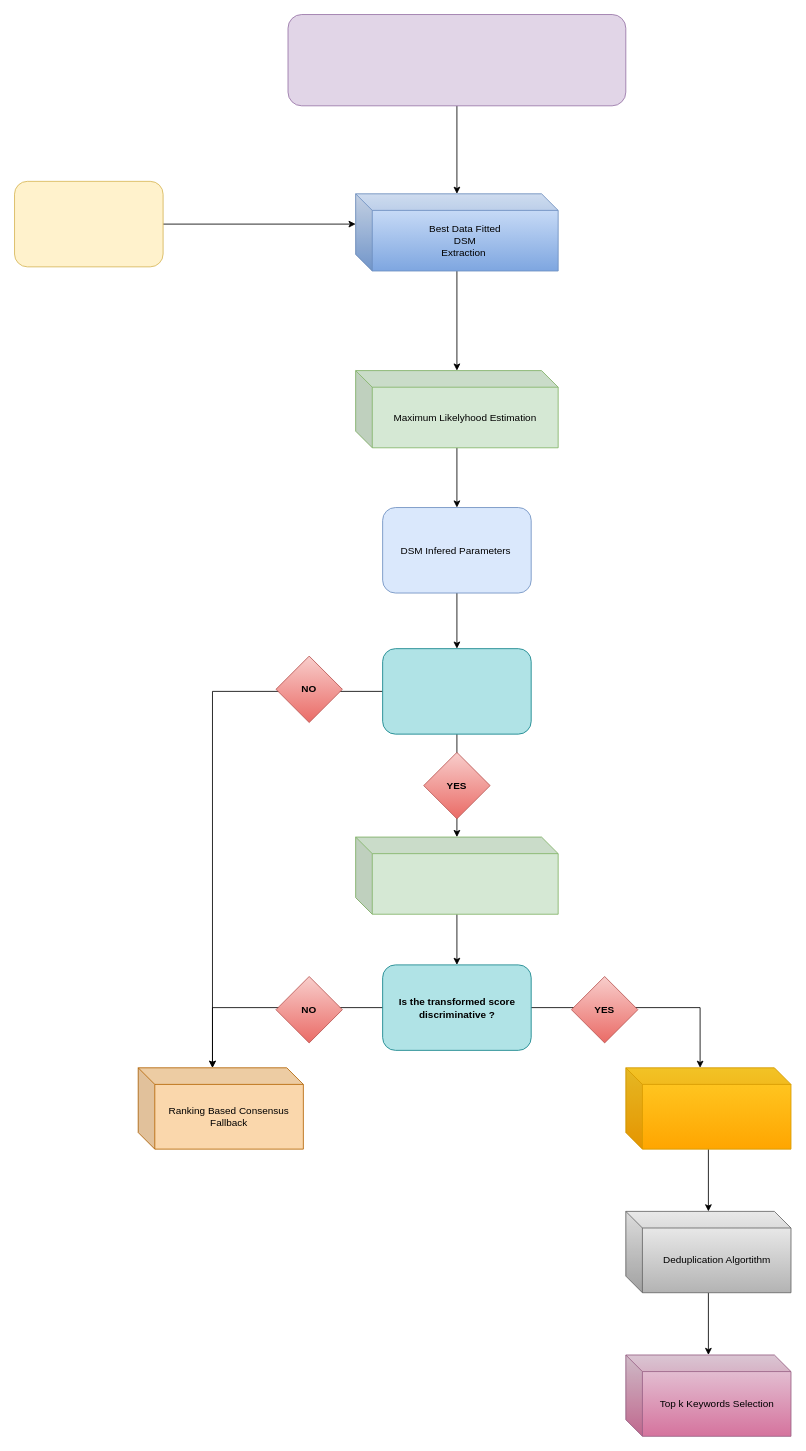
The diagram is 806 pixels wide and 1451 high, and some of its shapes have lost their labels. The shapes that lost their labels are listed below. From the top down, each one's centre as x and y in pixels, then its label:
(x=456, y=60): Discriminative Statistical Models (DSM)
(x=88, y=224): k-th Model Transformed Scores
(x=456, y=691): Are the parameters impliying a theoritically discriminative DSM ?
(x=456, y=875): Kolmogorov Smirnov goodness of fit Test
(x=708, y=1108): n models Consolidation
